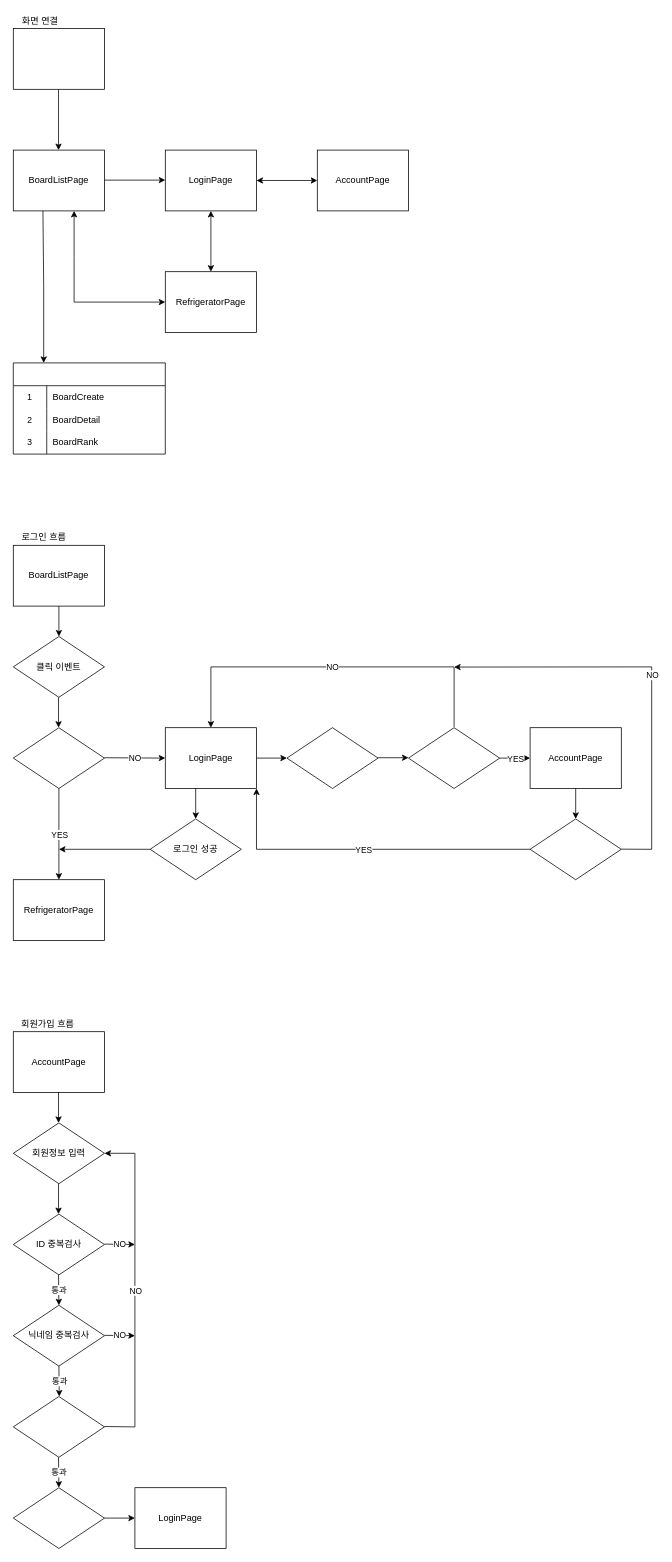
Some shapes in this 672 by 1562 pixel diagram are drawn without their labels. Each missing label, with the box of its shape:
BoardPage: (13, 362, 165, 454)
로그인 실패: (286, 727, 378, 788)
로그인 유무: (13, 727, 104, 788)
비밀번호 정규식 확인: (13, 1396, 104, 1457)
웹 페이지 접속: (13, 28, 104, 89)
회원가입 성공: (13, 1487, 104, 1548)
회원가입 알림: (408, 727, 500, 788)
회원가입 완료: (529, 818, 621, 880)
